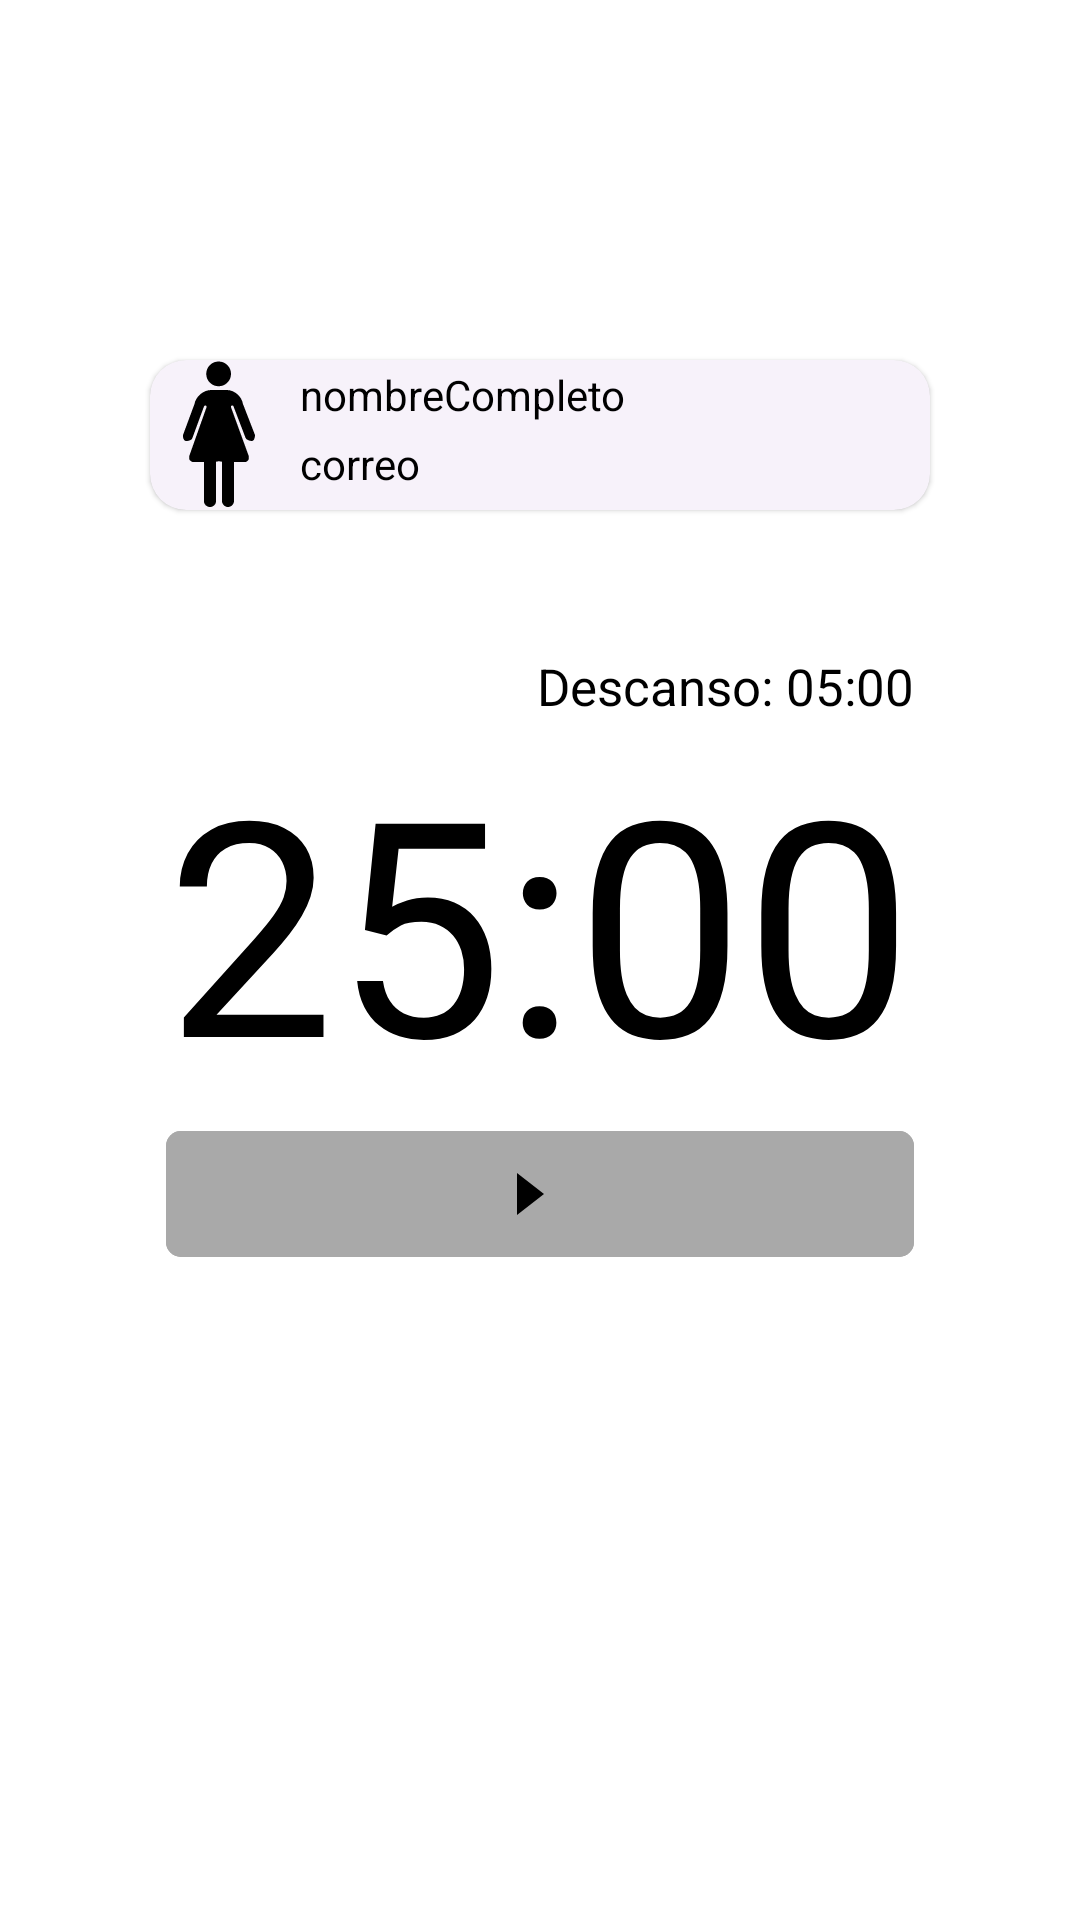

Point at icon controls on the screen. Image size 1080*1920, points as [x,y].
svgfemale: [205,435]
